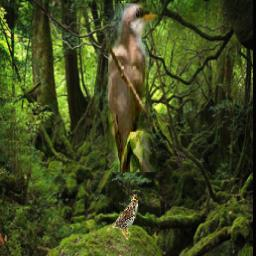Cuckoo: (108, 4, 160, 173)
Sparrow: (106, 193, 138, 241)
